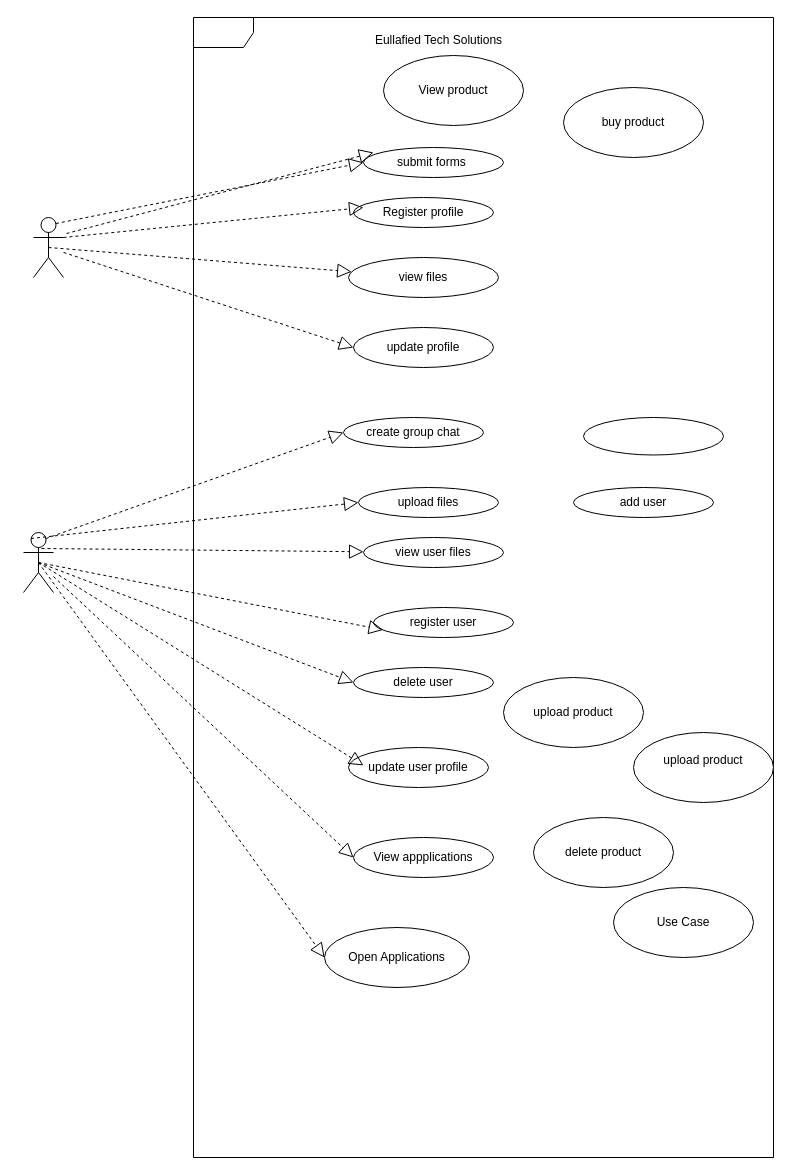
Image size: 791x1175. Some labels were removed from this diagram. The centre of each missing label's shape, as x and y in pixels:
"admin" goes at point 38,562.
"removeUser" goes at point 653,435.
"user" goes at point 48,247.
